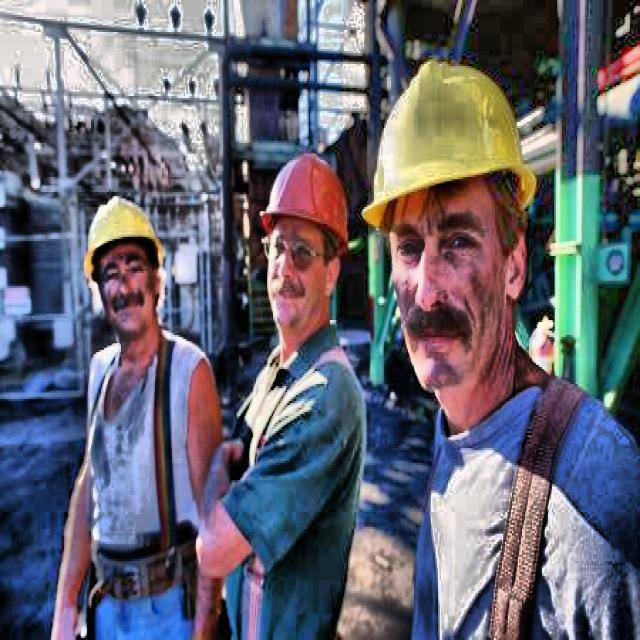helmet: (360, 43, 550, 399), (249, 138, 361, 346), (80, 179, 176, 344)
